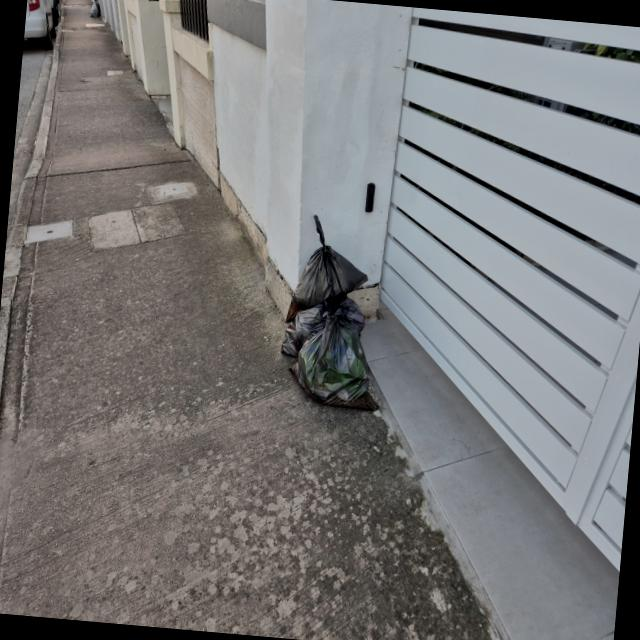black_bag: (284, 302, 409, 428), (278, 198, 376, 316)
